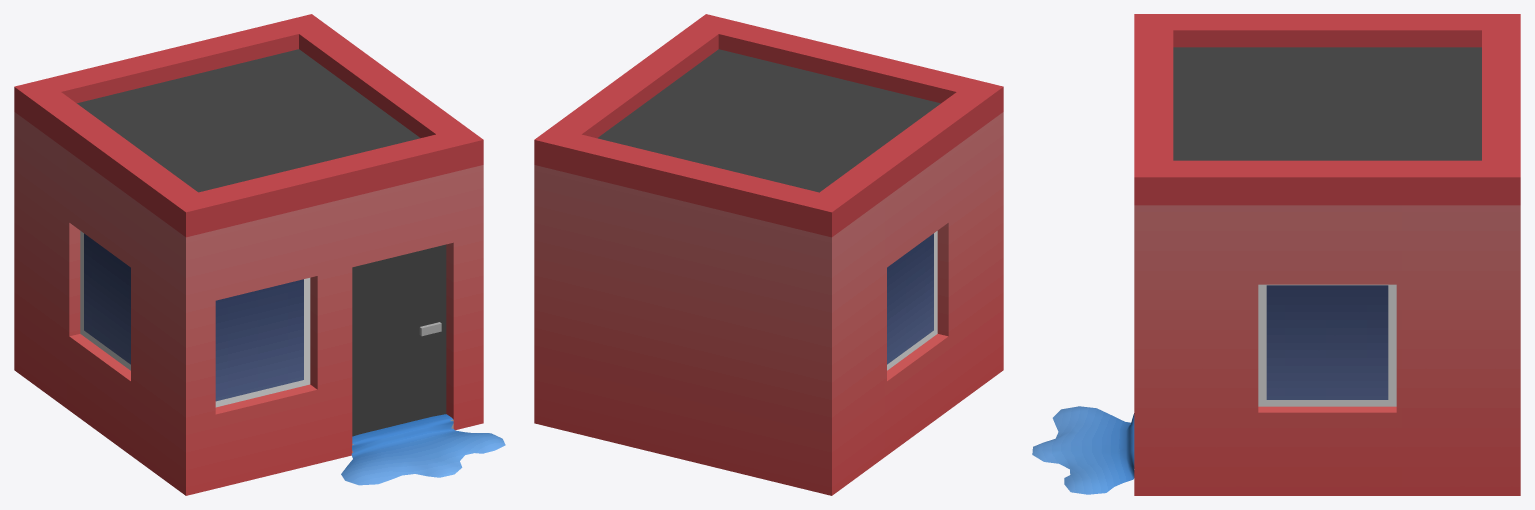
Rendered from vytopeny_dum.fbx.
3 renders of one model, left to right at view 1: azimuth 30°, elevation 25°; view 2: azimuth 150°, elevation 25°; view 3: azimuth 270°, elevation 25°, orthographic. The views are drawn at different scales.
Parts seen in each view (by area): view 1: domek, voda; view 2: domek; view 3: domek, voda.
Part boxes in pixels (<box>): domek: <box>14,14,483,495</box>; voda: <box>341,414,505,485</box>; domek: <box>534,14,1003,495</box>; domek: <box>1134,14,1520,495</box>; voda: <box>1032,406,1134,494</box>.
Size of the model in its own units: 500 by 455 by 632.
